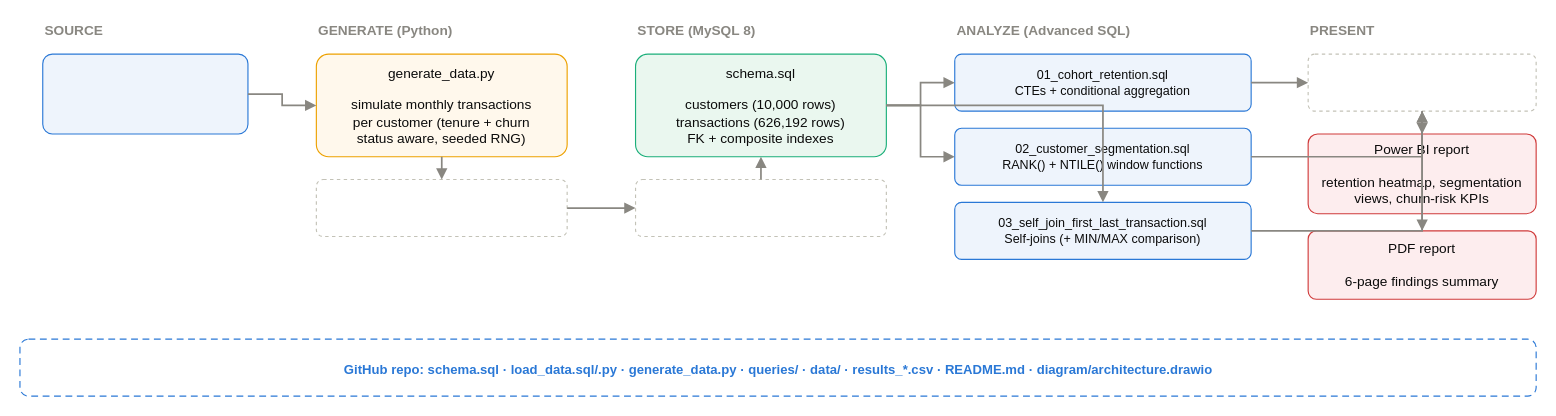
Image size: 1556x416. Some labels were removed from this diagram. The centre of each missing label's shape, as x and y in pixels:
"customers.csv transactions.csv (~626k rows)" goes at (x=441, y=207).
"Kaggle: Churn_Modelling.csv (10,000 real customers)" goes at (x=145, y=93).
"load_data.sql / load_data.py (LOAD DATA or batched INSERT)" goes at (x=760, y=207).
"results_*.csv (query exports)" goes at (x=1421, y=82).
